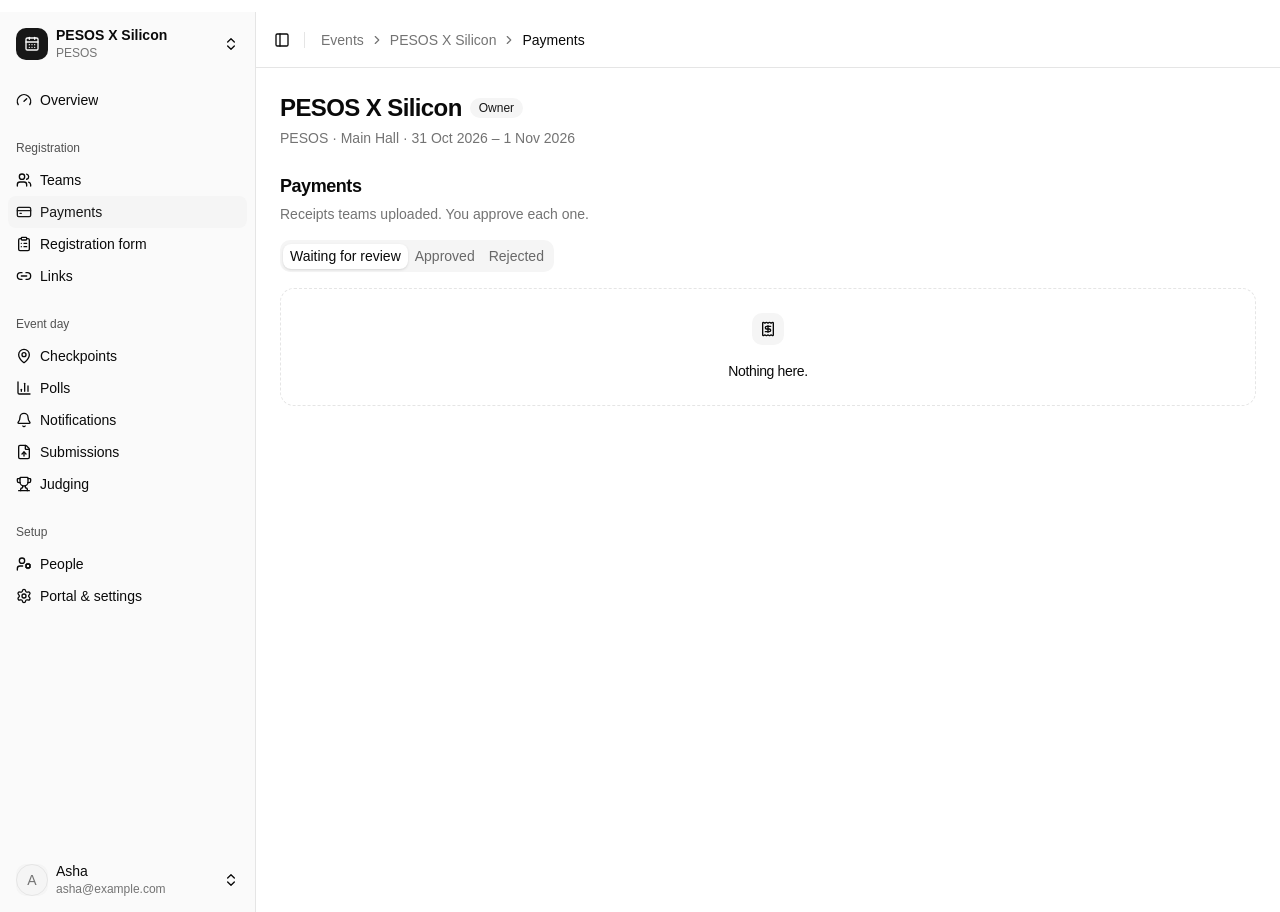
Test: payments › filters by status
Expected: the text "Nothing here." is shown, top-left (728, 361), bottom-right (808, 381)
Click the tab "Rejected". click: (516, 256)
box: top-left (482, 244), bottom-right (551, 268)
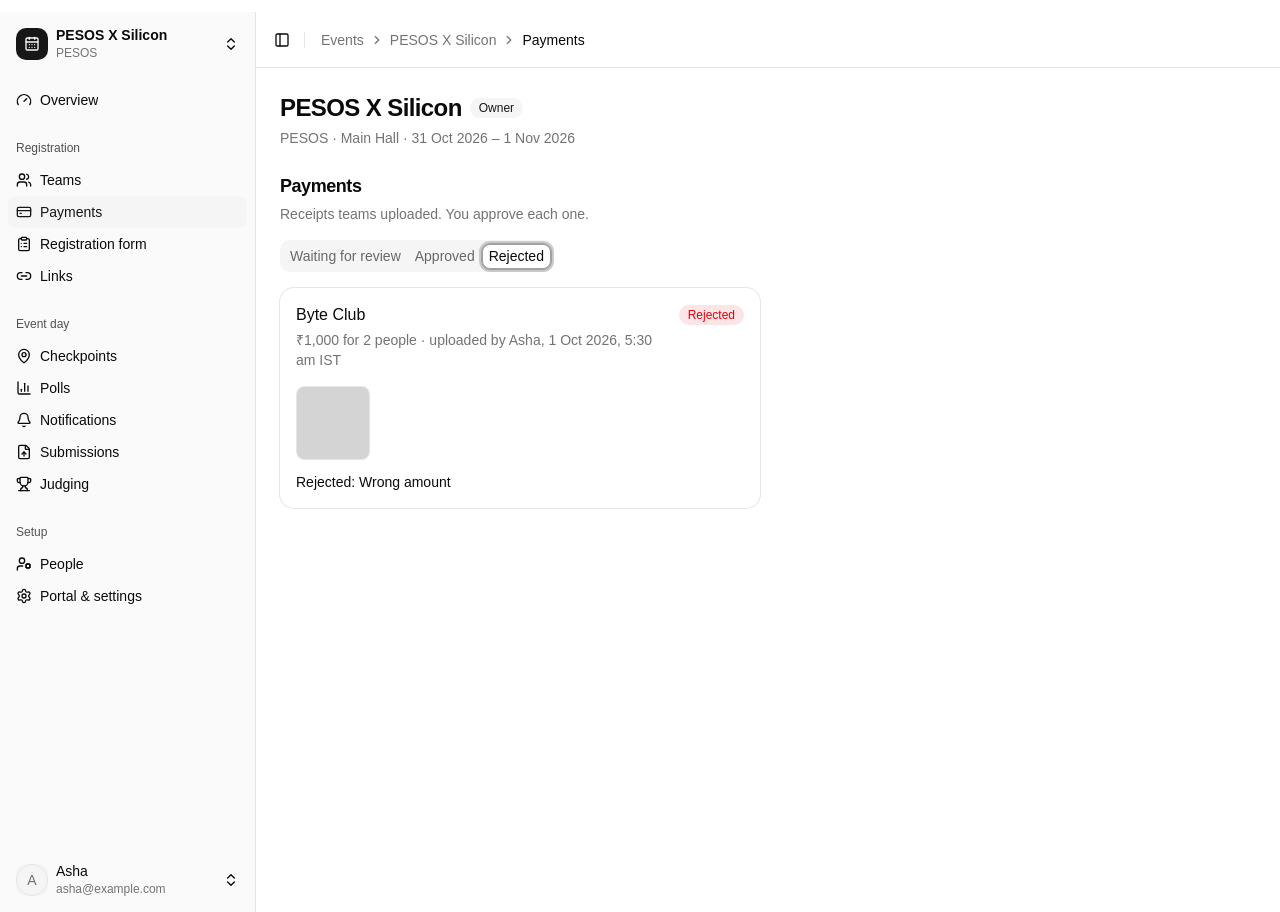
Expected: the text "Rejected: Wrong amount" is shown, top-left (296, 474), bottom-right (451, 490)
